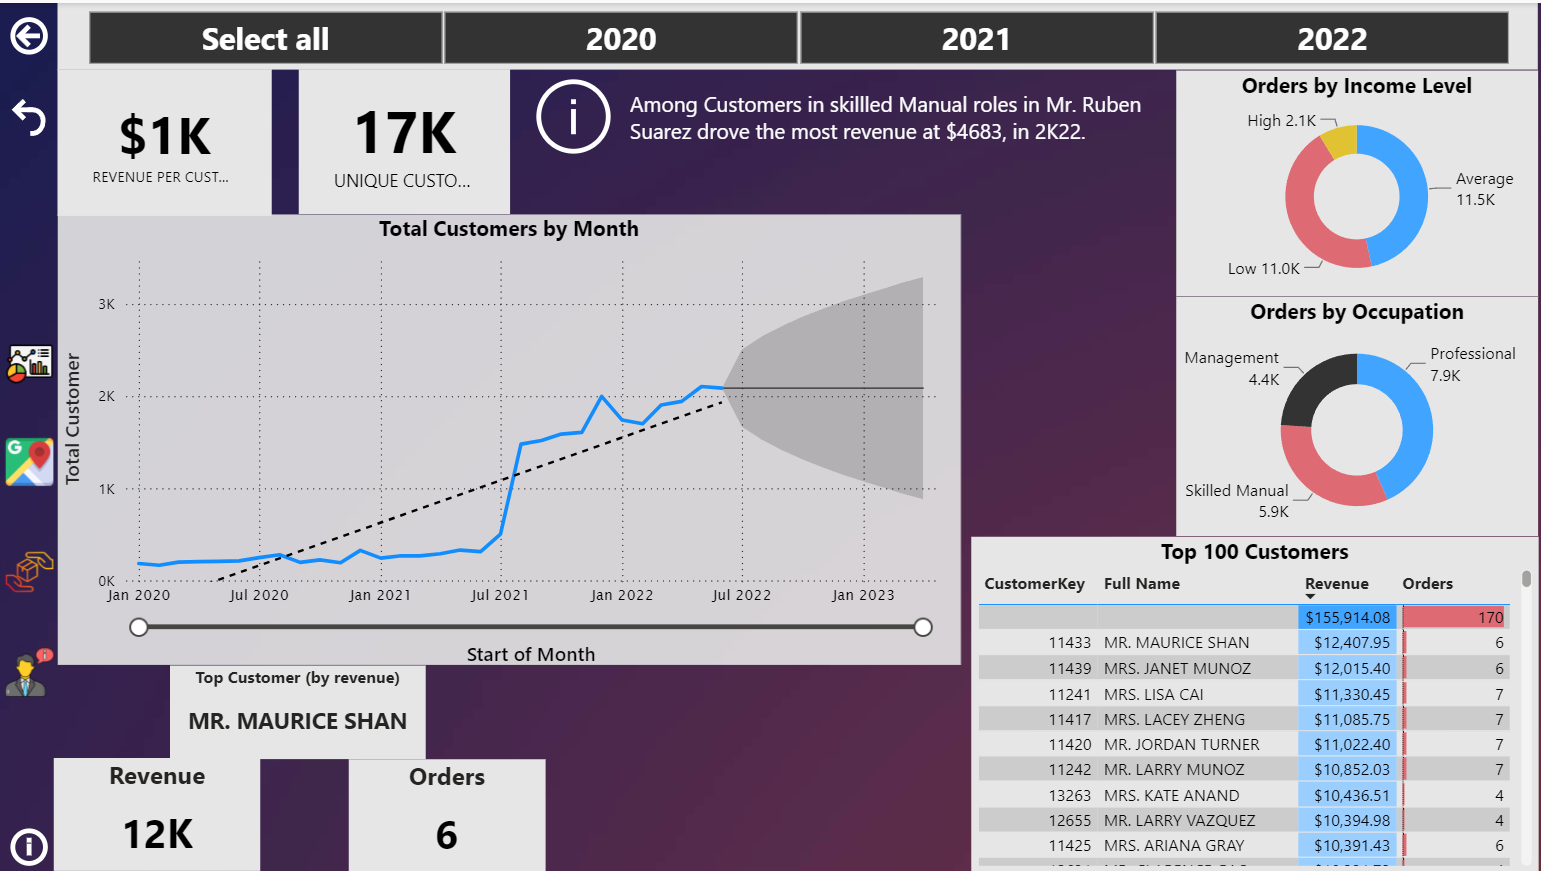

The page's visual inventory and layout, read from the dashboard file:
{"tool":"powerbi","page":{"name":"Customer Details","canvas":[1280,720],"ordinal":3},"visuals":[{"type":"cardVisual","fields":{"Data":["Table Measure.Average Revenue per Customer"]},"box":[47.5,55,177.5,121.2],"z":0},{"type":"cardVisual","fields":{"Data":["Table Measure.Total Customer"]},"box":[248.1,55.1,175,119.9],"z":1000},{"type":"actionButton","box":[0,522.4,100,65],"z":1000,"group":"g1"},{"type":"actionButton","box":[0,445.7,100,52.5],"z":1500,"group":"g1"},{"type":"lineChart","title":"Total Customers by Month","fields":{"Category":["Calendar Lookup.Date Hierarchy.Start of Year","Calendar Lookup.Date Hierarchy.Start of Month","Calendar Lookup.Date Hierarchy.Start of Week","Calendar Lookup.Date Hierarchy.Date"],"Y":["Table Measure.Total Customer"]},"box":[47.5,175,748.8,373.8],"z":2000},{"type":"actionButton","box":[0,354.5,100,52.5],"z":2000,"group":"g1"},{"type":"donutChart","title":"Orders by Income Level","fields":{"Category":["Customer Lookup.Income Level"],"Y":["Table Measure.Total Orders"]},"box":[975.6,56.3,299.6,187],"z":3000},{"type":"donutChart","title":"Orders by Occupation","fields":{"Category":["Customer Lookup.Occupation"],"Y":["Table Measure.Total Orders"]},"box":[975,243.8,300,198.8],"z":4000},{"type":"actionButton","box":[0,261.2,100,76.2],"z":4000,"group":"g1"},{"type":"tableEx","title":"Top 100 Customers","fields":{"Values":["Customer Lookup.CustomerKey","Customer Lookup.Full Name","Table Measure.Total Revenue","Table Measure.Total Orders"]},"box":[805,442.5,470,277.5],"z":5000},{"type":"card","title":"Top Customer (by revenue)","fields":{"Values":["Min(Customer Lookup.Full Name)"]},"box":[141.4,548.9,212.1,77.9],"z":6000},{"type":"shape","title":"Left Nav Bar","box":[0,0,45,720.3],"z":7000},{"type":"shape","title":"Left Nav Bar","box":[0,0,47.5,720],"z":8000},{"type":"cardVisual","title":"Orders","fields":{"Data":["Table Measure.Total Orders"]},"box":[288.8,626.8,163,93.5],"z":9000},{"type":"cardVisual","title":"Revenue","fields":{"Data":["Table Measure.Total Revenue"]},"box":[45,626.2,171.2,93.8],"z":10000},{"type":"slicer","fields":{"Values":["Calendar Lookup.Year"]},"box":[47.5,0,1227.5,55],"z":11000},{"type":"actionButton","box":[3.8,680,100,40],"z":12000},{"type":"actionButton","box":[437.5,56.2,537.5,76.2],"z":13000},{"type":"actionButton","box":[3.8,75,100,40],"z":14000},{"type":"group","id":"g1","title":"Navigation","box":[0,261.2,100,326.2],"z":14001},{"type":"actionButton","box":[3.8,7.5,82.5,40],"z":14002}]}

Visuals, with their boxes on the page's 1280x720 design canvas (x1, y1, x2, y2). These are canvas units, not pixel positions in the 1541x871 screenshot, which may show the page scaled, cropped or inside an application window:
cardVisual - Table Measure.Average Revenue per Customer: x1=48, y1=55, x2=225, y2=176
cardVisual - Table Measure.Total Customer: x1=248, y1=55, x2=423, y2=175
actionButton: x1=0, y1=522, x2=100, y2=587
actionButton: x1=0, y1=446, x2=100, y2=498
"Total Customers by Month" lineChart: x1=48, y1=175, x2=796, y2=549
actionButton: x1=0, y1=354, x2=100, y2=407
"Orders by Income Level" donutChart: x1=976, y1=56, x2=1275, y2=243
"Orders by Occupation" donutChart: x1=975, y1=244, x2=1275, y2=443
actionButton: x1=0, y1=261, x2=100, y2=337
"Top 100 Customers" tableEx: x1=805, y1=442, x2=1275, y2=720
"Top Customer (by revenue)" card: x1=141, y1=549, x2=354, y2=627
"Left Nav Bar" shape: x1=0, y1=0, x2=45, y2=720
"Left Nav Bar" shape: x1=0, y1=0, x2=48, y2=720
"Orders" cardVisual: x1=289, y1=627, x2=452, y2=720
"Revenue" cardVisual: x1=45, y1=626, x2=216, y2=720
slicer - Calendar Lookup.Year: x1=48, y1=0, x2=1275, y2=55
actionButton: x1=4, y1=680, x2=104, y2=720
actionButton: x1=438, y1=56, x2=975, y2=132
actionButton: x1=4, y1=75, x2=104, y2=115
"Navigation" group: x1=0, y1=261, x2=100, y2=587
actionButton: x1=4, y1=8, x2=86, y2=48
